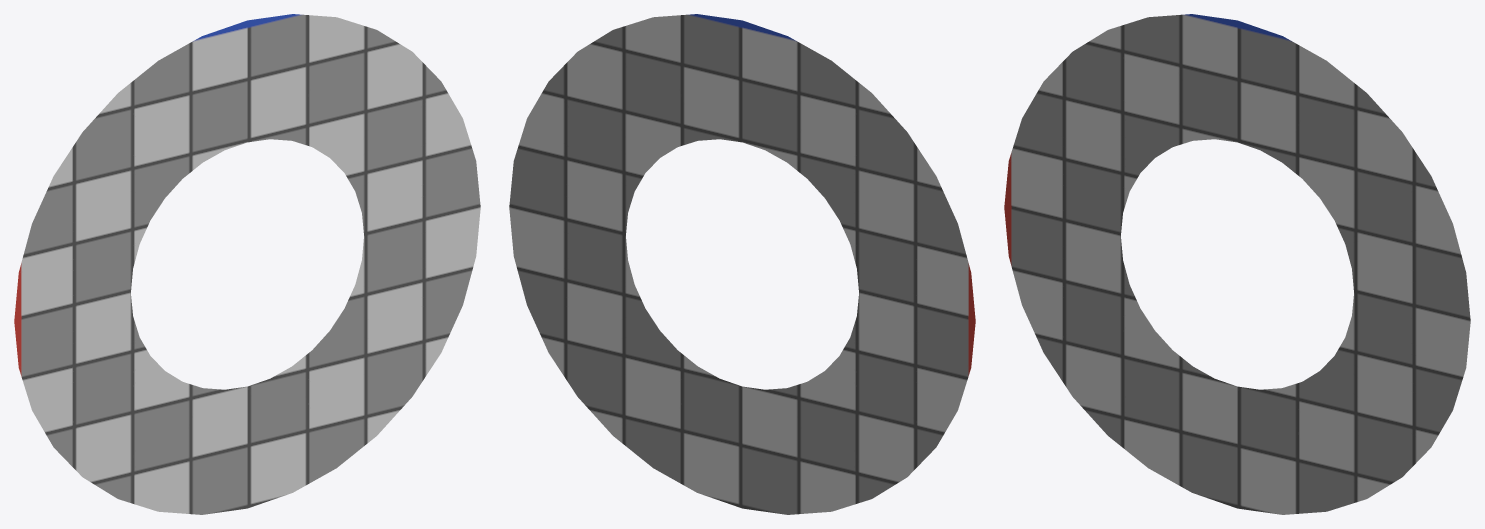
File: annulus.glb
The picture shows the model from 3 angles, left to right: view 1: azimuth 30°, elevation 25°; view 2: azimuth 150°, elevation 25°; view 3: azimuth 330°, elevation 25°; orthographic projection.
Visible parts, largest first — view 1: annulus; view 2: annulus; view 3: annulus.
Boxes of the visible parts, x1,y1,x2,y2 form: annulus: (14, 14, 480, 514); annulus: (509, 14, 975, 514); annulus: (1004, 14, 1470, 514).
Bounding box in the file's own units: 2 × 2 × 0.
Materials: 1 (1 with a texture image).
